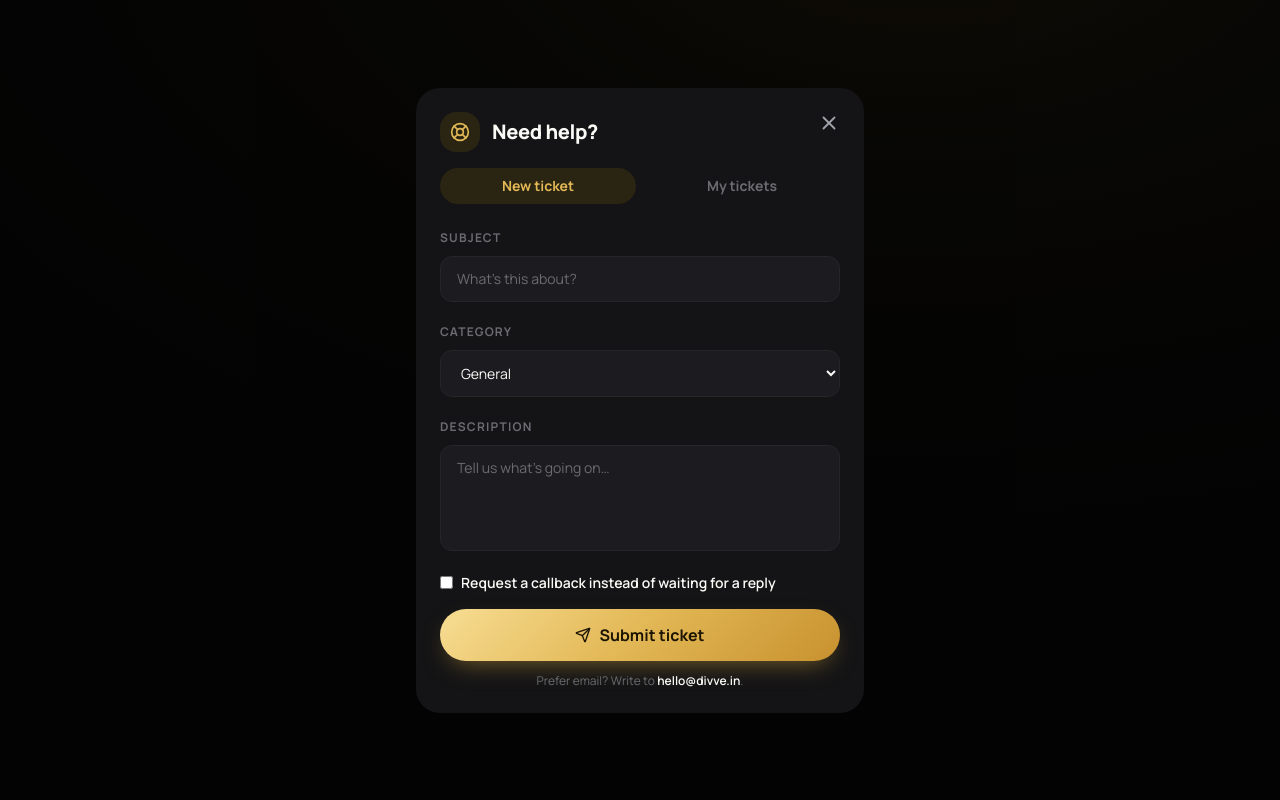
Test case: SupportCard › shows the backend's error message on a failed submission
This screenshot has width=1280, height=800.
Step 1. Type "Subject" into the field with test id "support-subject-input" → point(640, 278), box [440,256,840,302]
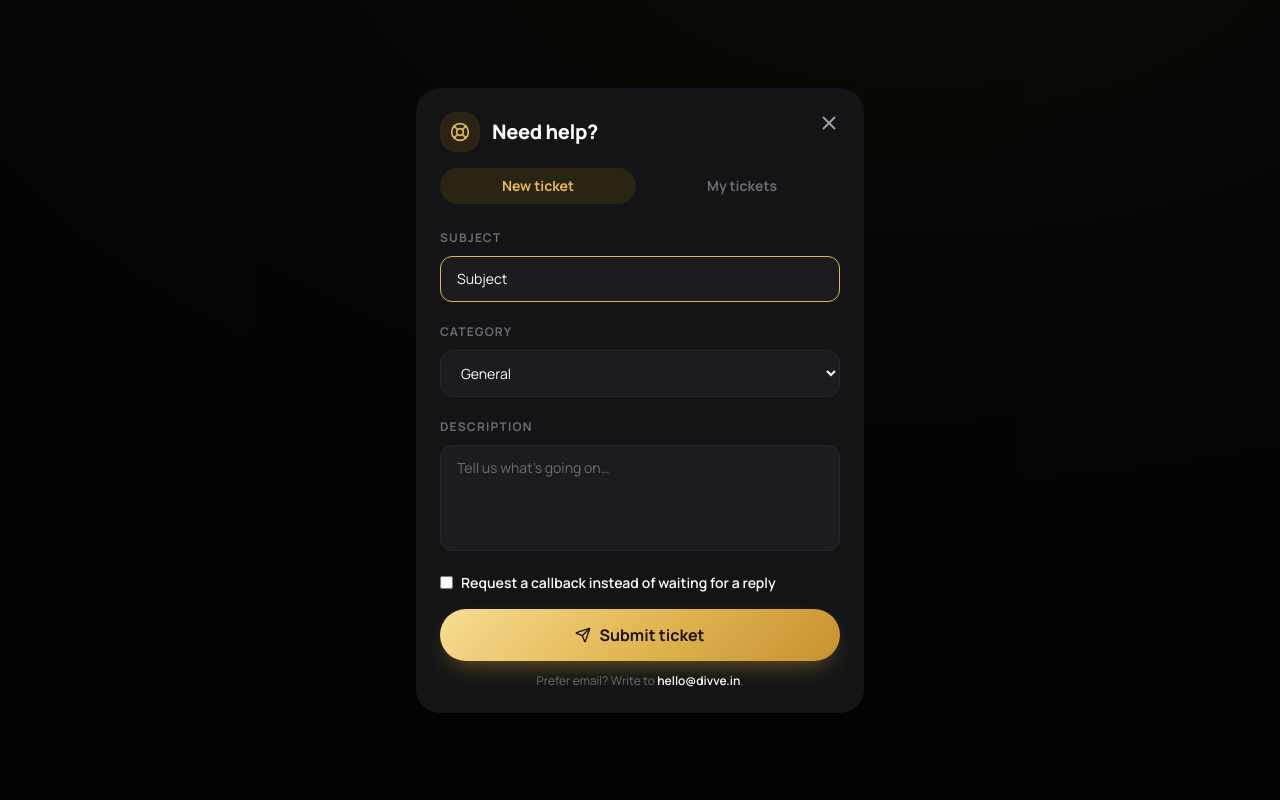
Step 2. Type "Description" into the text box with test id "support-description-input" → point(640, 498), box [440,444,840,550]
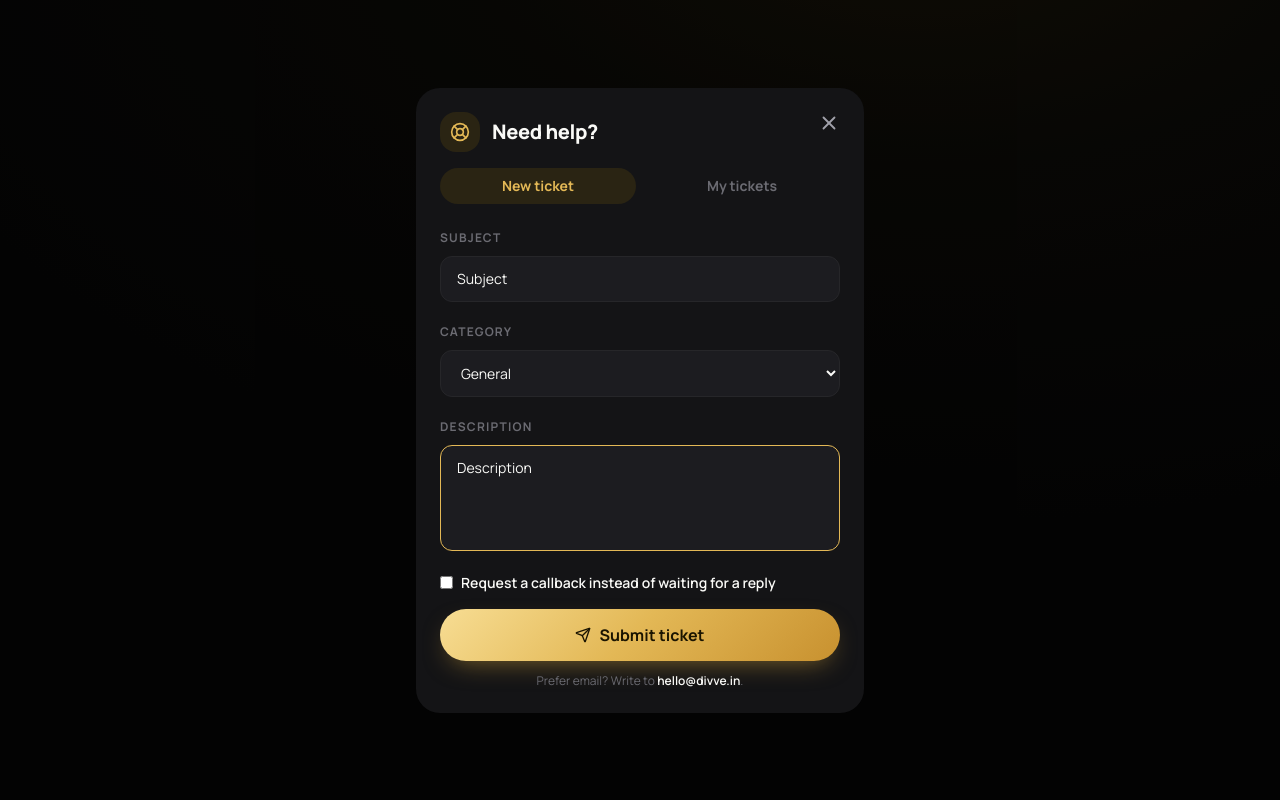
Step 3. Click the button with test id "support-submit-btn" → point(640, 634), box [440,608,840,660]
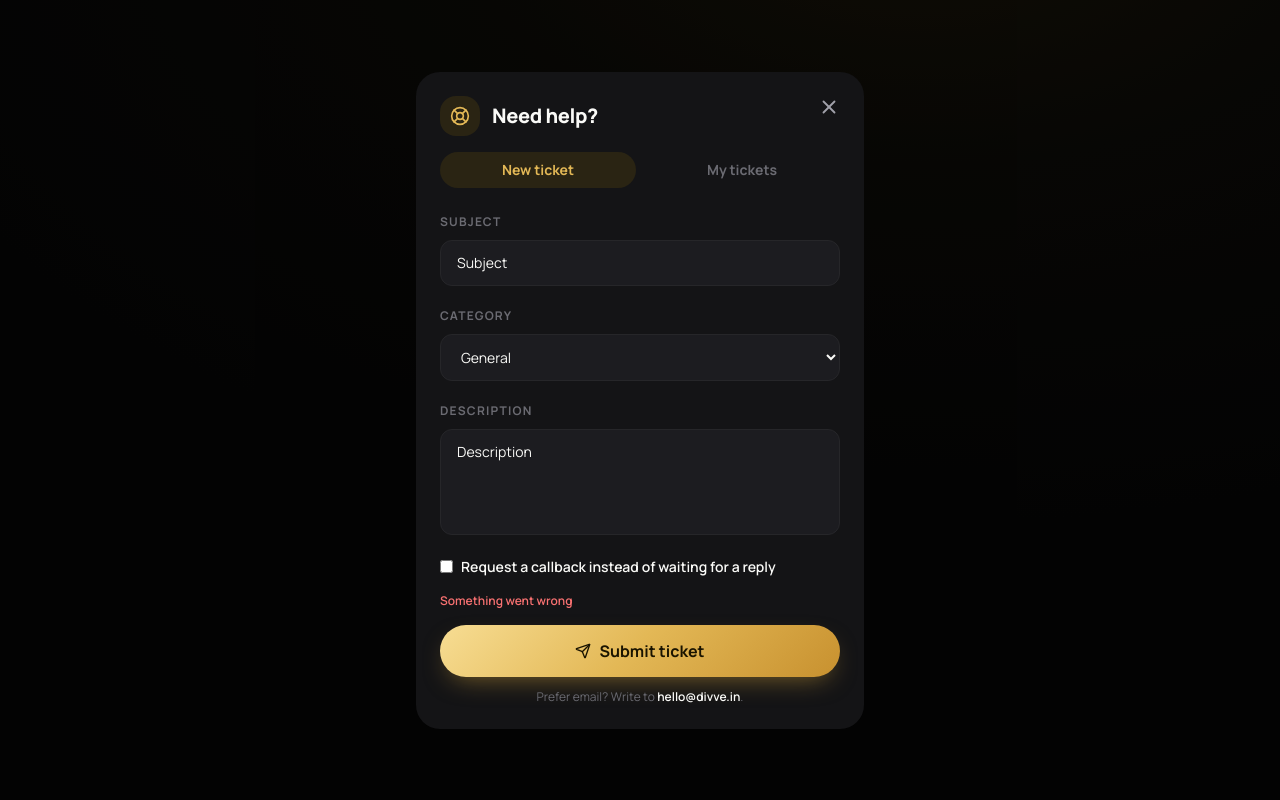
Expected: the text with test id "support-error" reads "Something went wrong", [440,592,572,608]
